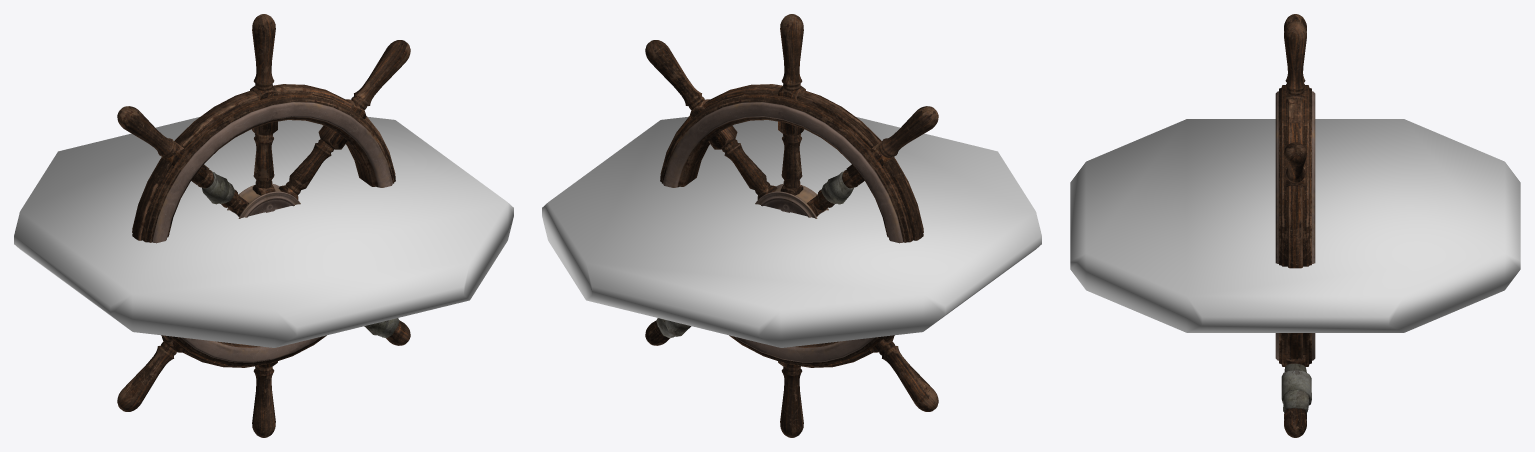
File: SM_Wheel.fbx
The picture shows the model from 3 angles, left to right: view 1: azimuth 30°, elevation 25°; view 2: azimuth 150°, elevation 25°; view 3: azimuth 270°, elevation 25°; orthographic projection. The views are drawn at different scales.
Visible parts, largest first — view 1: SM_Wheel_ConvexHulls, SM_Wheel; view 2: SM_Wheel_ConvexHulls, SM_Wheel; view 3: SM_Wheel_ConvexHulls, SM_Wheel.
Part boxes in pixels (<box>): SM_Wheel_ConvexHulls: <box>14,116,513,347</box>; SM_Wheel: <box>117,14,410,437</box>; SM_Wheel_ConvexHulls: <box>542,116,1041,347</box>; SM_Wheel: <box>645,14,938,437</box>; SM_Wheel_ConvexHulls: <box>1070,119,1520,332</box>; SM_Wheel: <box>1275,14,1315,437</box>.
Size of the model in its own units: 1.42 by 1.41 by 1.42.
